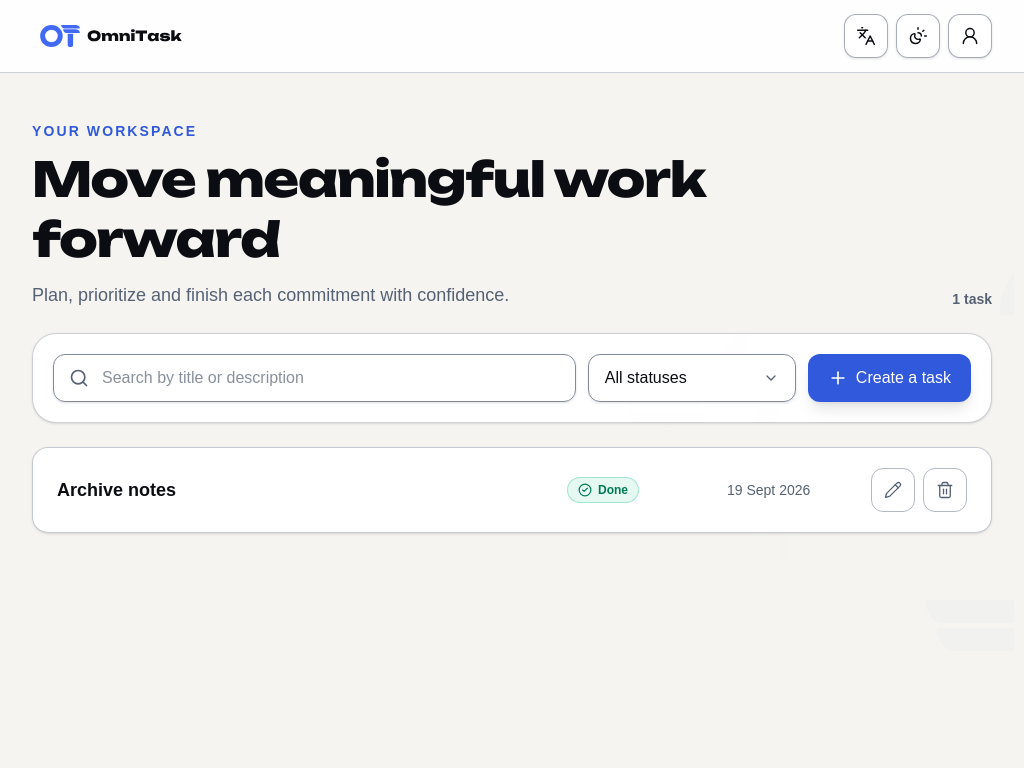
Test: task workspace › requires delete confirmation and restores focus when cancelled
Click the button named "Delete task Archive notes".
click(945, 490)  # box [923, 468, 967, 512]
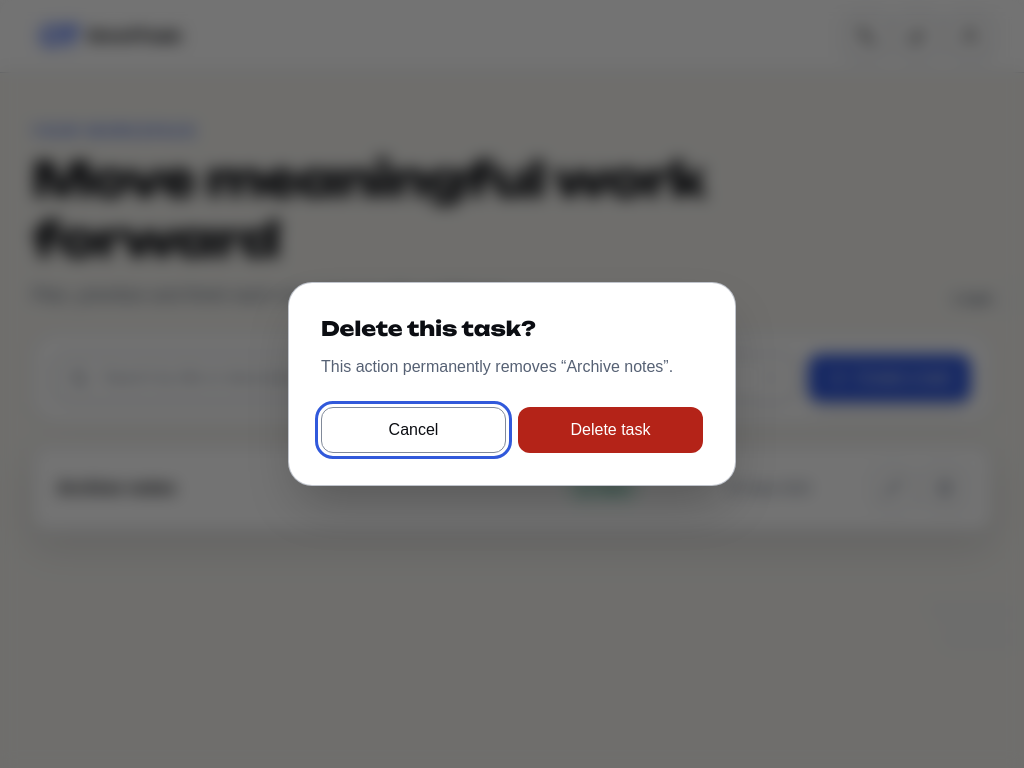
Click the button "Cancel".
click(414, 430)  # box [321, 407, 506, 453]
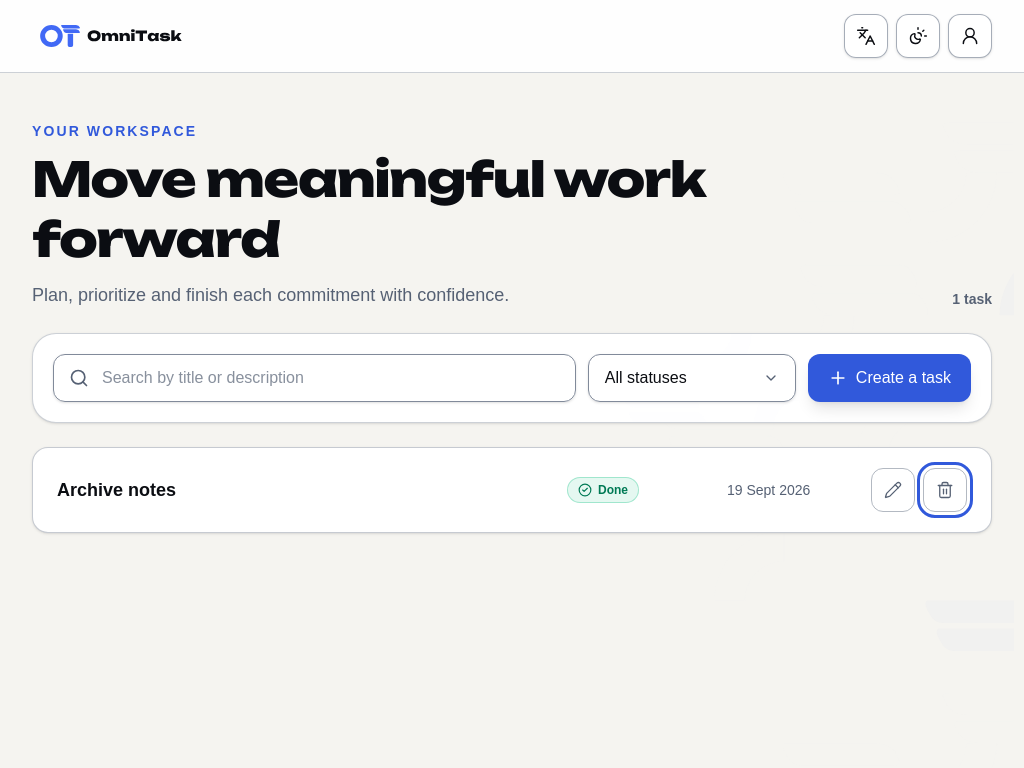
Click the button named "Delete task Archive notes".
click(945, 490)  # box [923, 468, 967, 512]
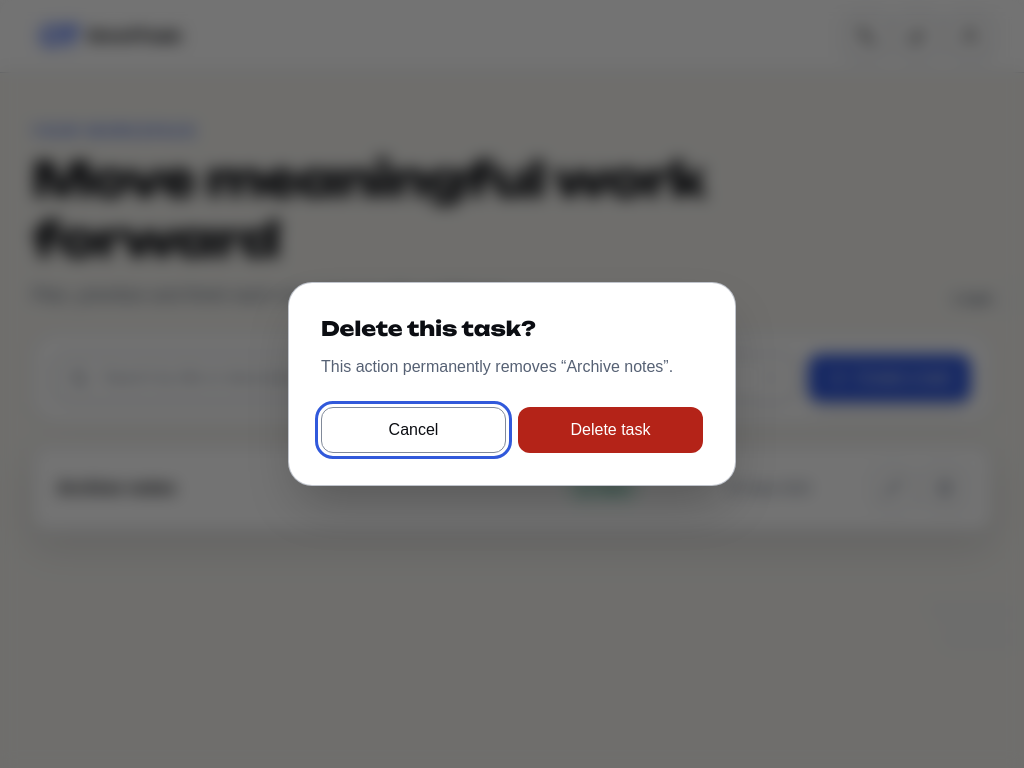
Click the button "Delete task".
click(610, 430)  # box [518, 407, 703, 453]
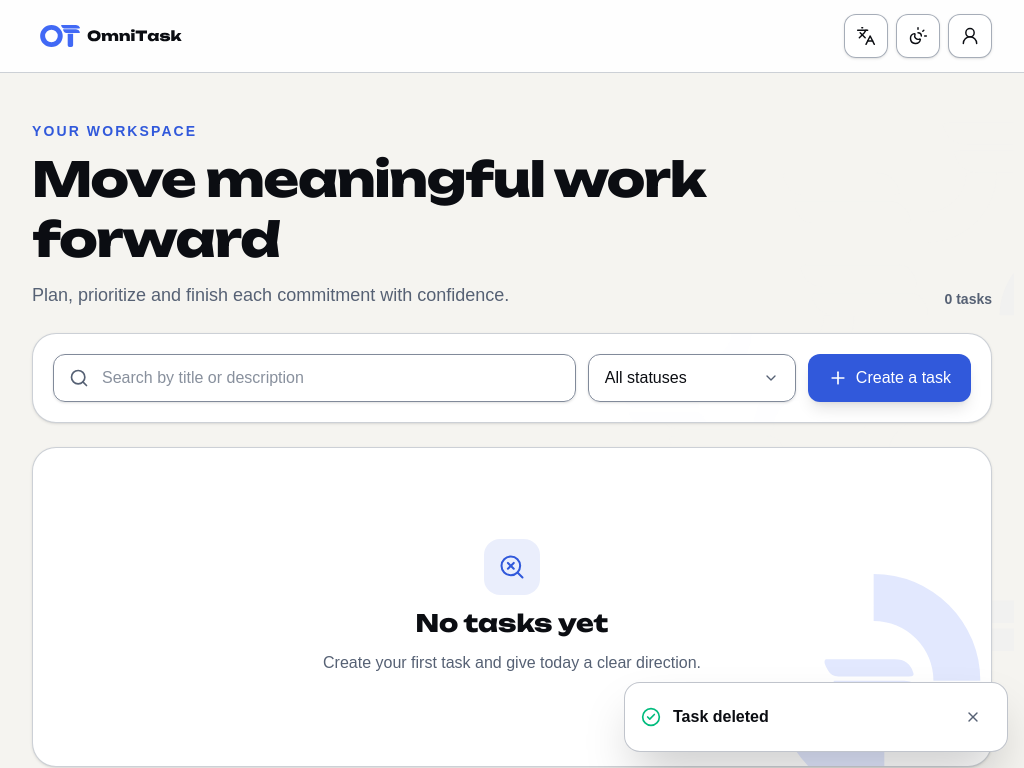
Check: the text "Task deleted" is shown, box [673, 708, 769, 725]
Check: the heading "Archive notes" is gone
